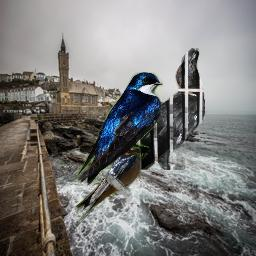Crow: (133, 48, 205, 170)
Swallow: (75, 72, 163, 185), (73, 142, 141, 229)
